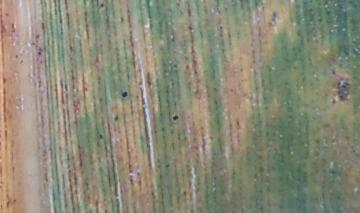tarspot: (336, 75, 353, 104), (266, 10, 277, 28), (145, 70, 153, 87), (170, 113, 180, 123), (118, 14, 126, 25), (9, 22, 16, 34), (120, 90, 129, 99), (112, 113, 120, 122), (186, 23, 194, 32), (1, 75, 8, 85), (3, 11, 11, 19), (96, 133, 105, 140), (67, 43, 74, 52), (331, 67, 337, 77), (39, 21, 45, 31), (184, 62, 190, 72), (163, 162, 170, 170), (181, 190, 188, 198), (98, 2, 105, 9), (234, 119, 240, 127), (135, 170, 141, 178), (331, 96, 336, 105), (150, 189, 155, 198), (34, 32, 40, 39), (36, 50, 43, 56), (217, 24, 223, 31), (13, 53, 19, 59)
